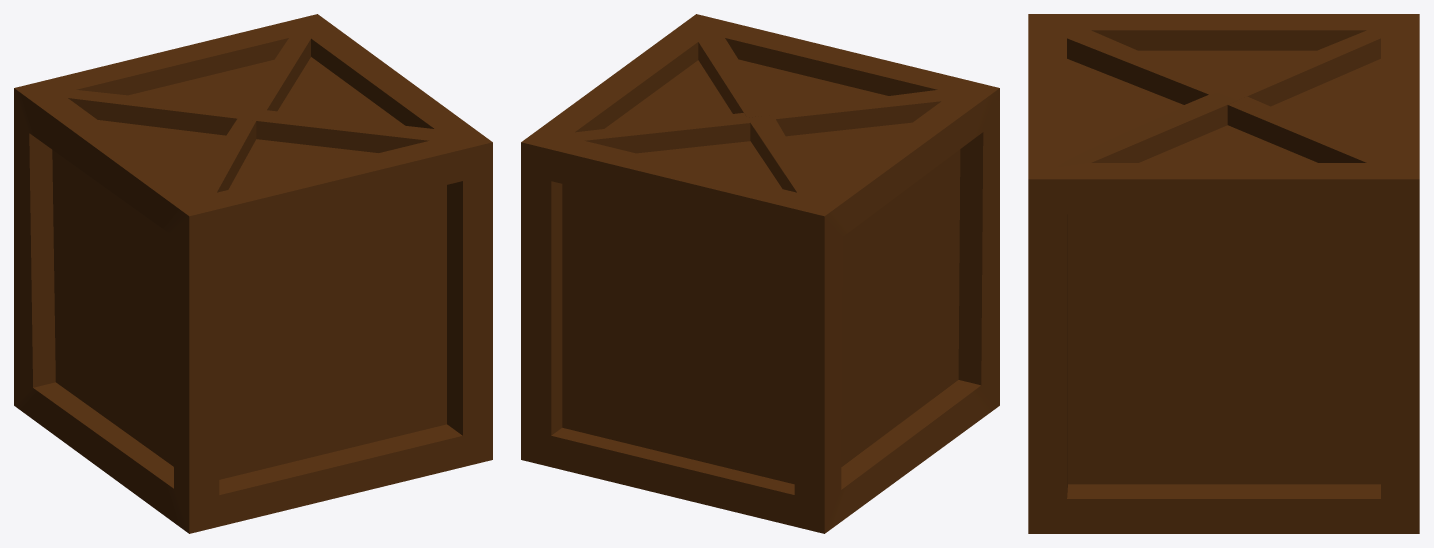
Rendered from Crate 1.fbx.
The picture shows the model from 3 angles, left to right: view 1: azimuth 30°, elevation 25°; view 2: azimuth 150°, elevation 25°; view 3: azimuth 270°, elevation 25°; orthographic projection. The views are drawn at different scales.
Visible parts, largest first — view 1: Crate; view 2: Crate; view 3: Crate.
Part boxes in pixels (bbox=[...]): Crate: bbox=[14, 14, 492, 533]; Crate: bbox=[521, 14, 999, 533]; Crate: bbox=[1028, 14, 1419, 533].
Size of the model in its own units: 83.61 by 83.18 by 83.15.
